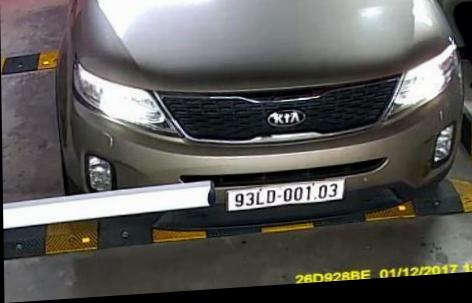License_Plate: (225, 177, 347, 216)
